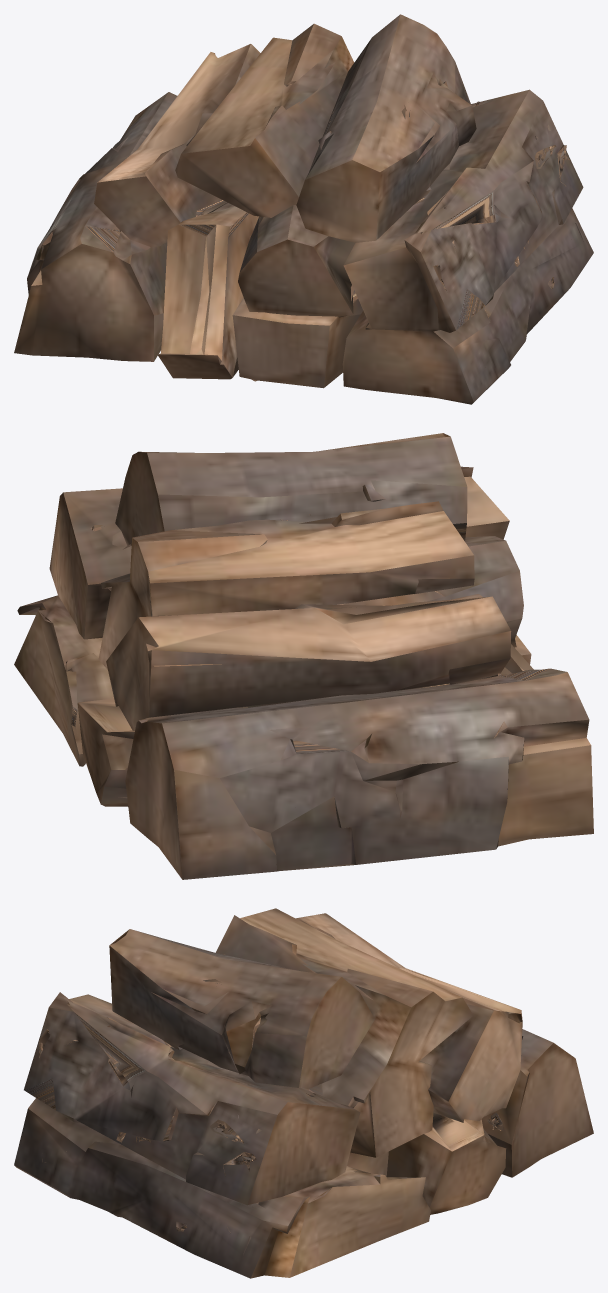
3 views of the same model, one above another, from view 1: azimuth 30°, elevation 25°; view 2: azimuth 150°, elevation 25°; view 3: azimuth 270°, elevation 25° (orthographic). The views are drawn at different scales.
Visible parts, largest first — view 1: geometry_0; view 2: geometry_0; view 3: geometry_0.
Part boxes in pixels (x1=…): geometry_0: x1=14, y1=14, x2=593, y2=404; geometry_0: x1=14, y1=433, x2=593, y2=879; geometry_0: x1=14, y1=908, x2=593, y2=1278.
Bounding box in the file's own units: 0.5985 × 0.2637 × 0.5787.
Materials: 1 (1 with a texture image).
